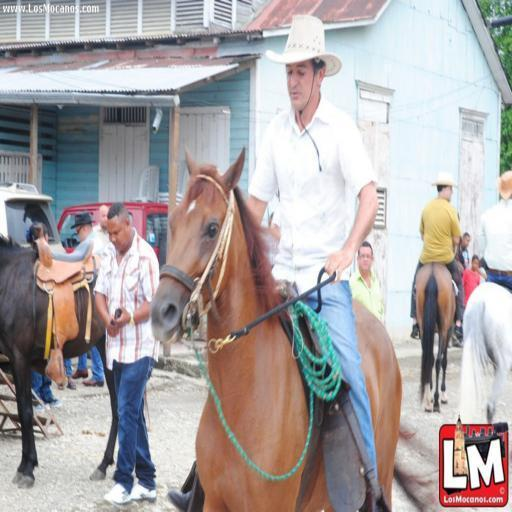horse: (150, 149, 404, 511), (0, 232, 117, 493), (458, 282, 512, 428), (414, 264, 456, 414)
